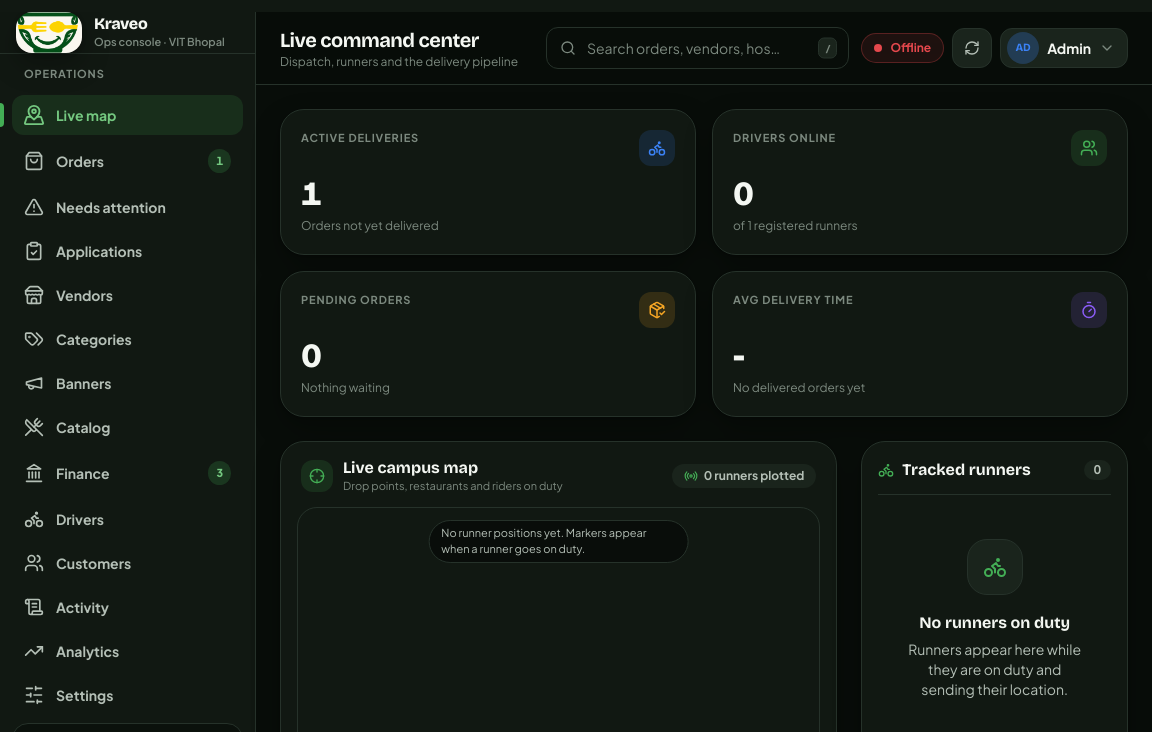
Finance section wiring › the sidebar shows the number of PENDING settlements, and opening Finance shows its tabs with the same number
Click the button "Finance 3" at (128, 472), box [12, 450, 243, 494]
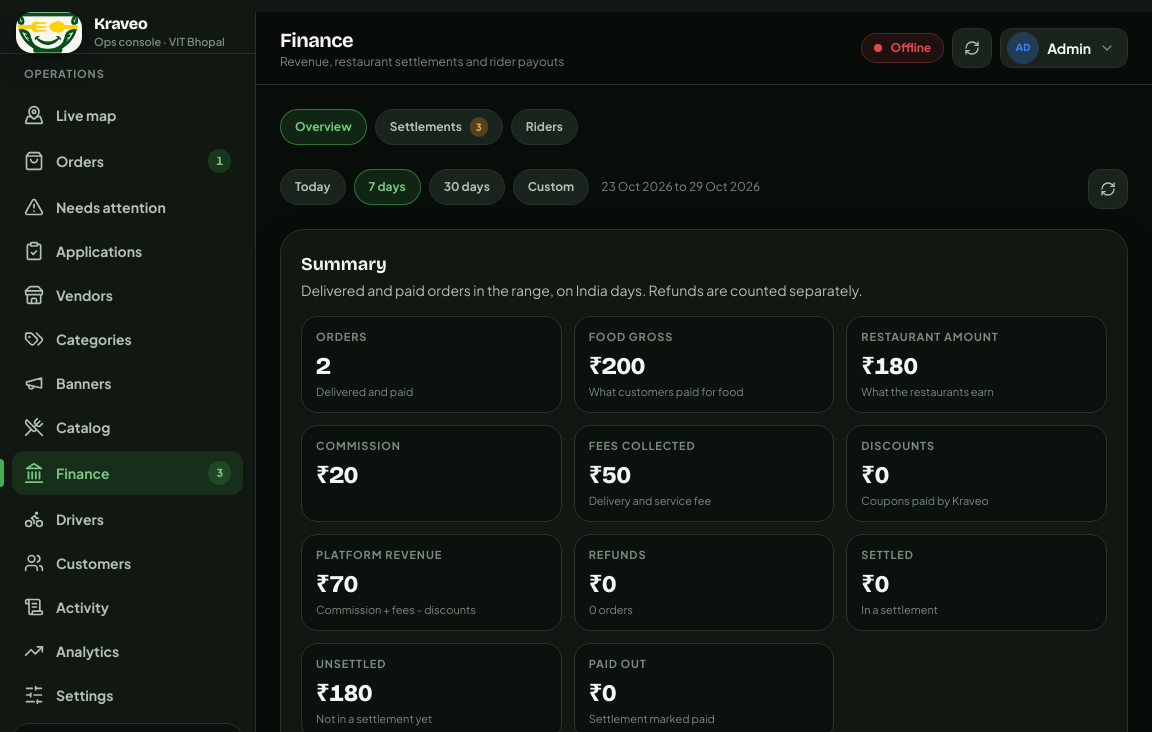
Check: the element named "Finance sections" is shown, box [280, 109, 578, 145]
Check: the tab with id "finance-tab-settlements" shows "3", box [375, 109, 503, 145]
Check: the text "Platform revenue" is shown, box [316, 548, 442, 561]
